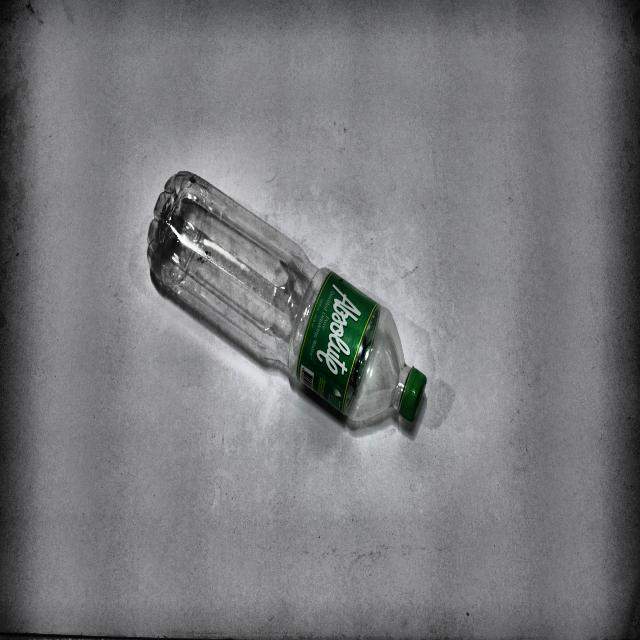Bottles: (140, 166, 430, 431)
